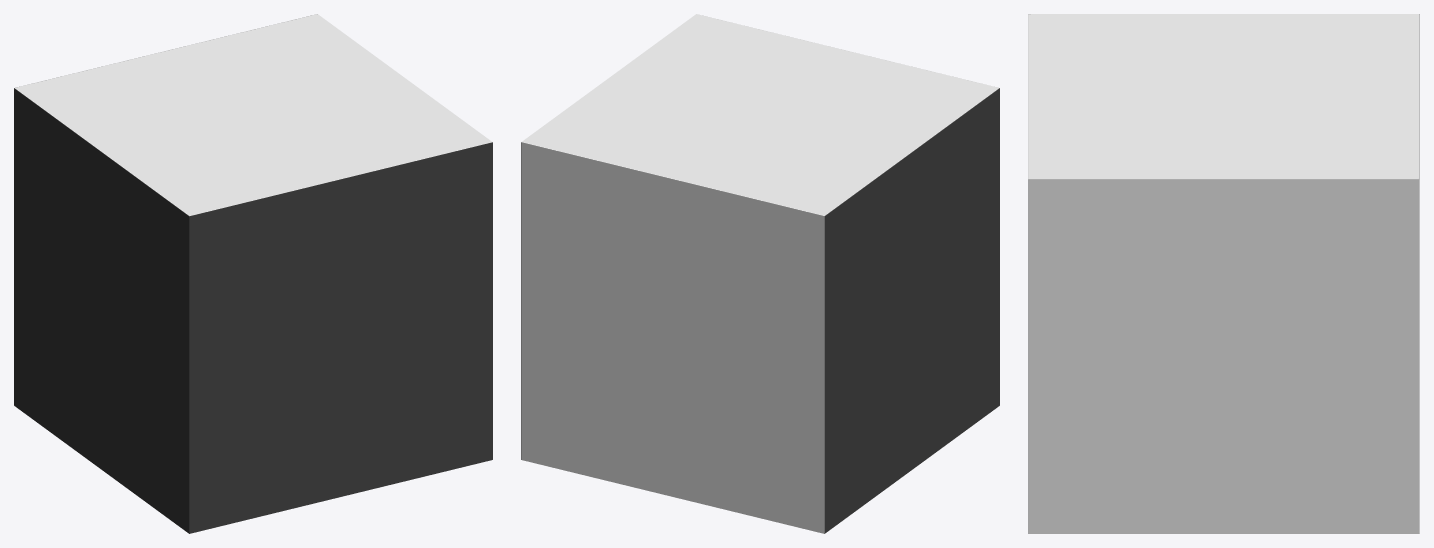
The model's file is Testing Toon Shader 3.glb.
The picture shows the model from 3 angles, left to right: view 1: azimuth 30°, elevation 25°; view 2: azimuth 150°, elevation 25°; view 3: azimuth 270°, elevation 25°; orthographic projection. The views are drawn at different scales.
Parts seen in each view (by area): view 1: Cube.001; view 2: Cube.001; view 3: Cube.001.
Boxes of the visible parts, x1,y1,x2,y2 form: Cube.001: (14, 14, 492, 533); Cube.001: (521, 14, 999, 533); Cube.001: (1028, 14, 1419, 533).
Size of the model in its own units: 2 by 2 by 2.
2 materials, 1 textured.
